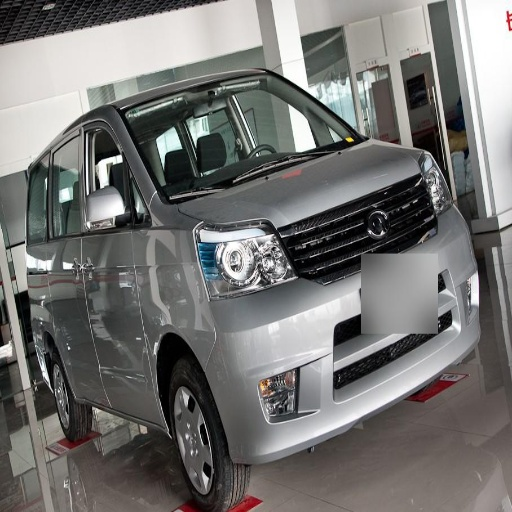front_bumper: (203, 180, 474, 458)
front_right_door: (79, 117, 141, 373)
front_right_light: (194, 223, 293, 294)
